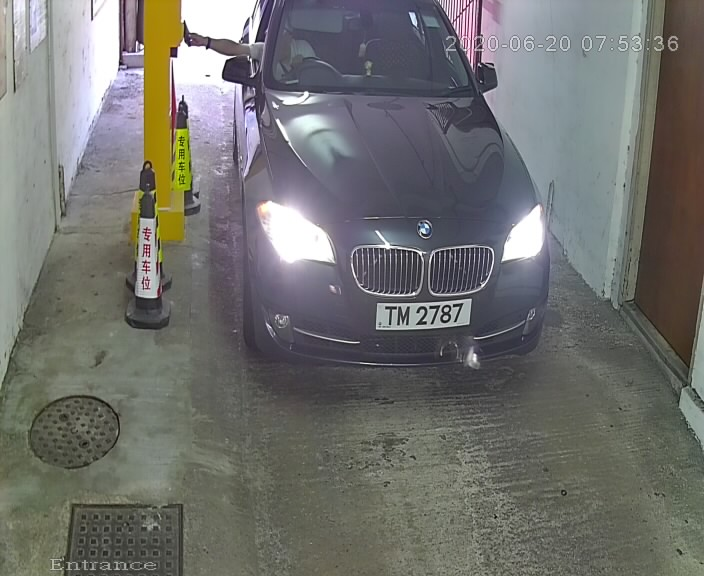privatecar: (209, 3, 548, 386)
